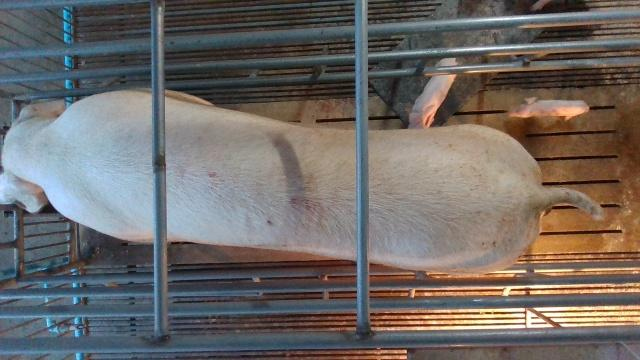piglet: (408, 57, 458, 128), (509, 97, 590, 122)
sow-stand-feed: (0, 89, 604, 275)
